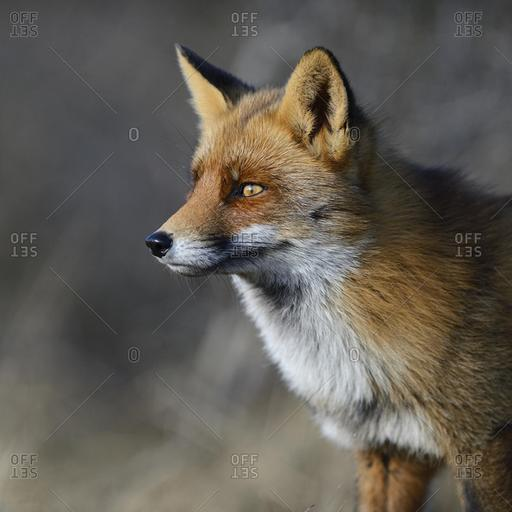Fox: (145, 40, 512, 512)
